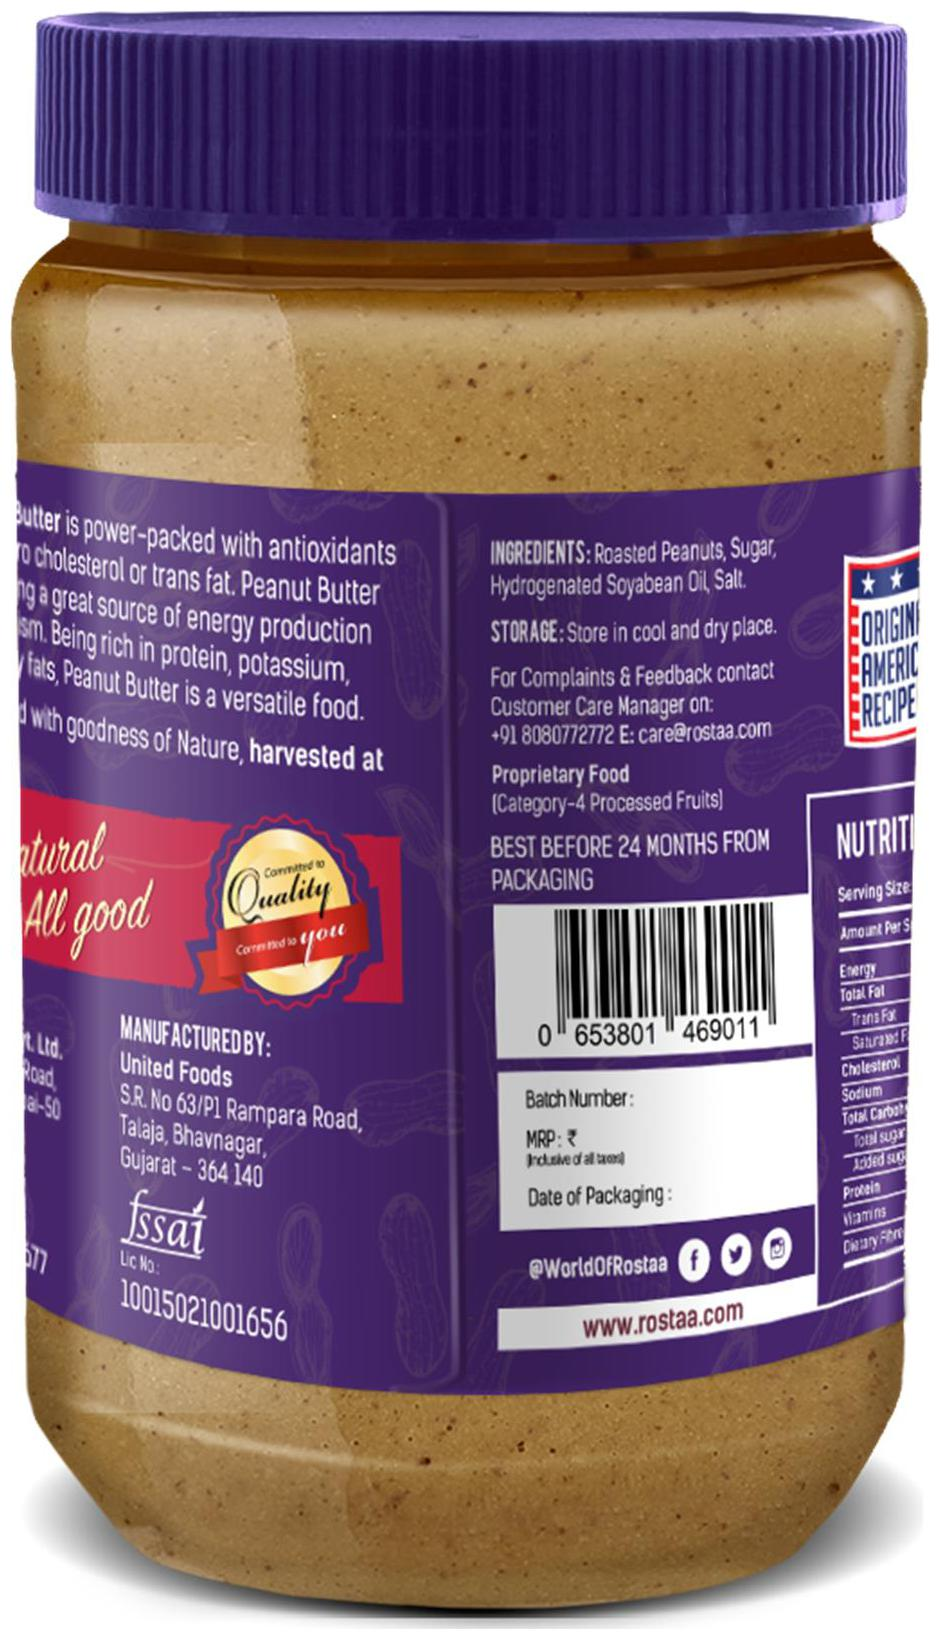fssai: (109, 1188, 207, 1260)
